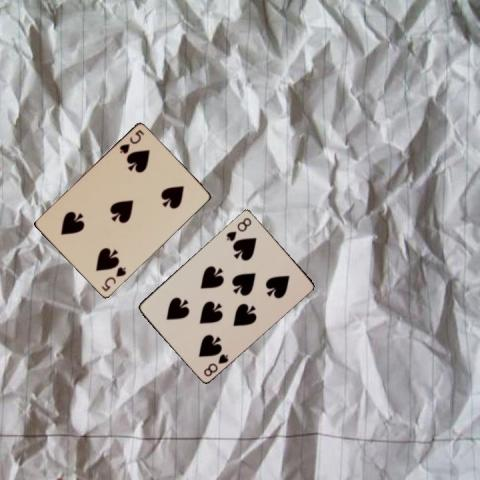5s: (98, 264, 127, 293), (117, 127, 145, 155)
8s: (223, 214, 253, 243), (201, 351, 230, 378)
